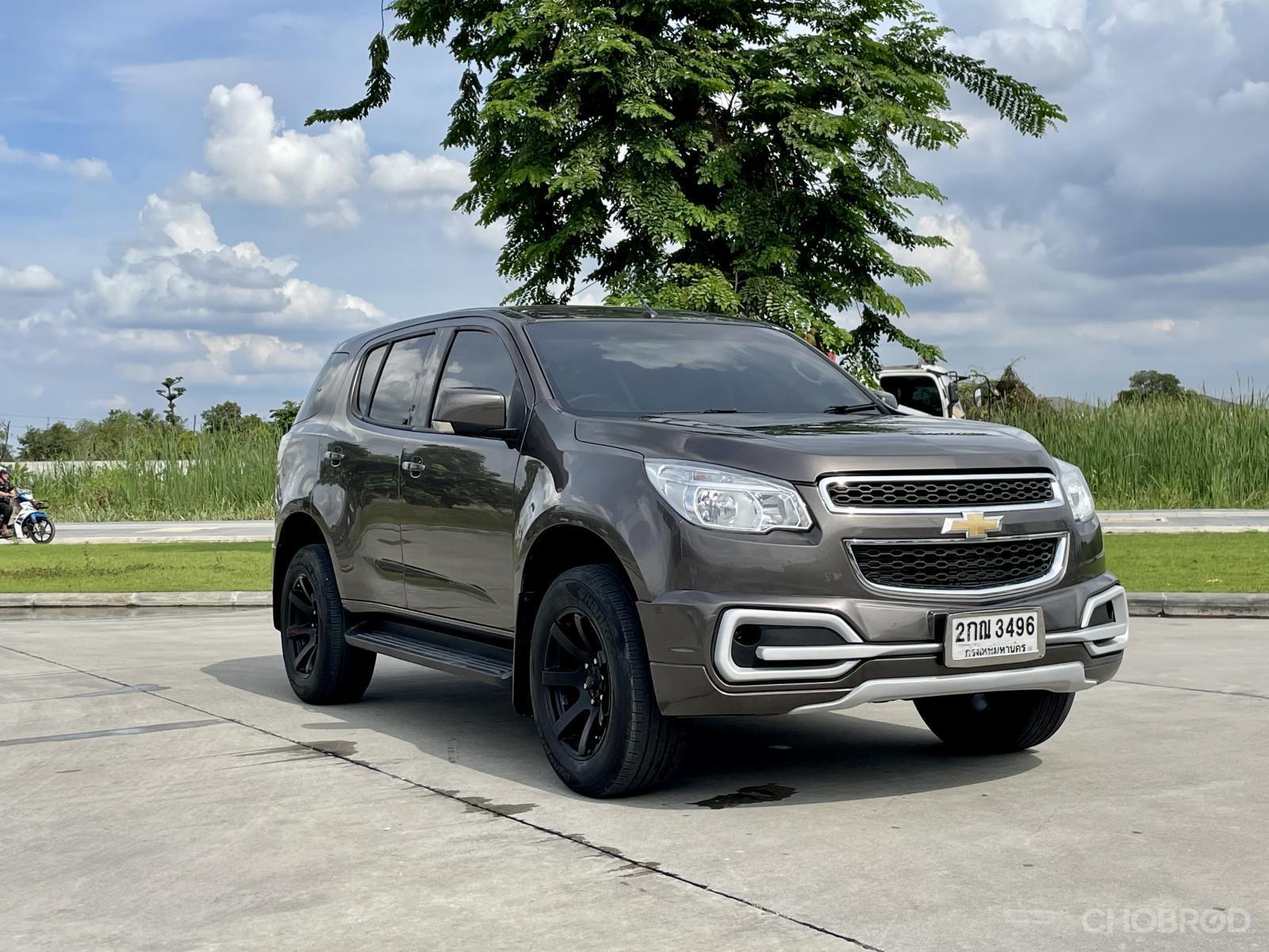license-plate: (939, 602, 1050, 666)
